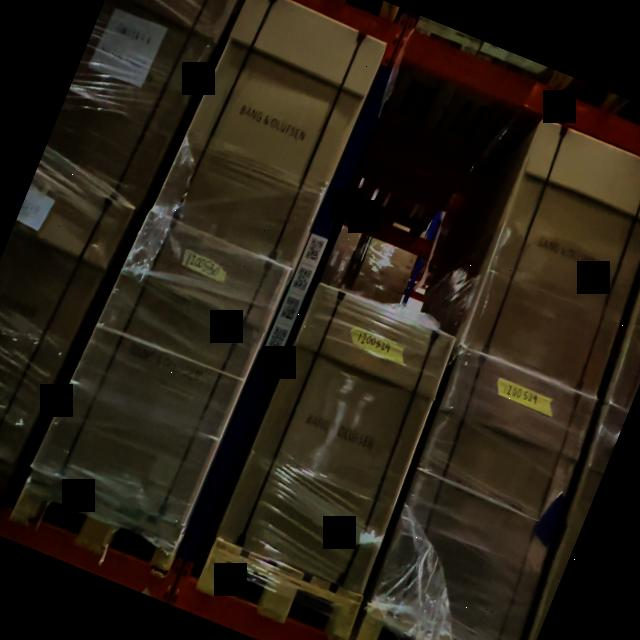box: (30, 211, 288, 529), (216, 282, 455, 591), (371, 350, 595, 640), (153, 0, 385, 266), (462, 123, 640, 394)
